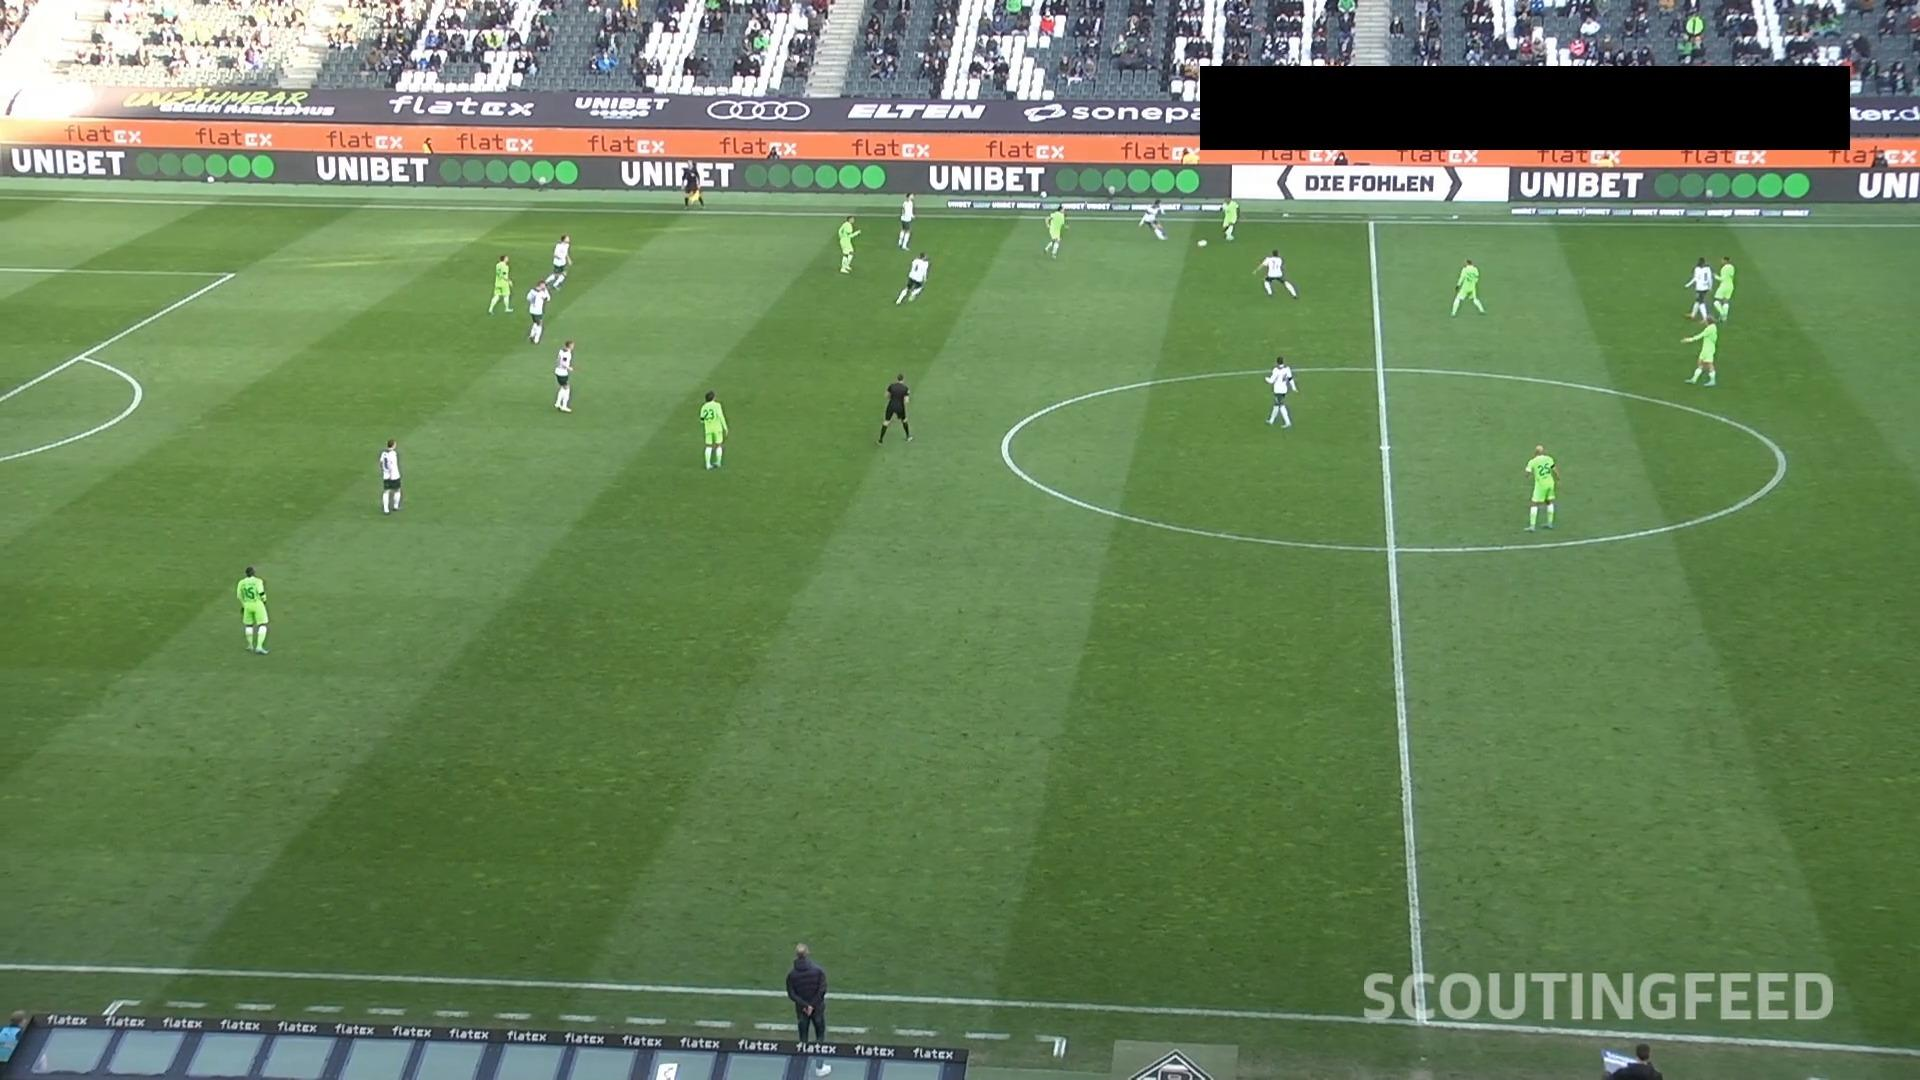ball: (1197, 239, 1207, 247)
coach: (785, 941, 827, 1048)
player: (1523, 443, 1558, 531), (235, 565, 269, 654), (1680, 312, 1718, 386), (1263, 355, 1298, 428), (698, 389, 728, 469), (1251, 248, 1297, 298), (1450, 257, 1485, 317), (1682, 255, 1713, 320), (894, 250, 930, 304), (378, 438, 402, 513), (524, 278, 550, 344), (552, 339, 575, 412), (487, 253, 513, 314), (1711, 254, 1734, 321), (835, 215, 860, 274), (548, 232, 572, 289), (1042, 203, 1066, 258), (1137, 197, 1167, 240), (896, 191, 915, 249), (1219, 196, 1239, 241)
referee: (876, 372, 912, 444), (1601, 1042, 1662, 1078), (679, 161, 703, 208)
